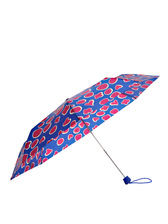other: (6, 70, 162, 188)
